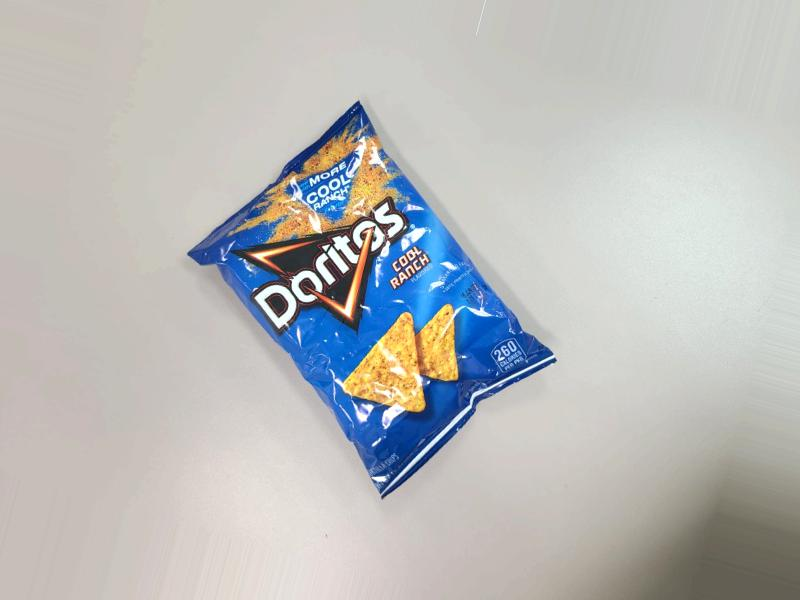doritos: (205, 159, 526, 470)
